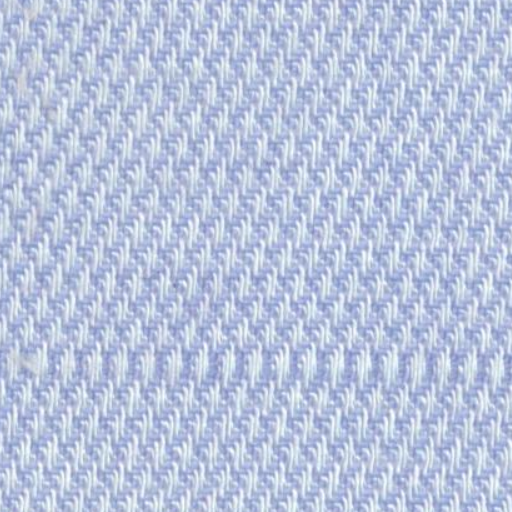TuoSha: (8, 295, 505, 419)
